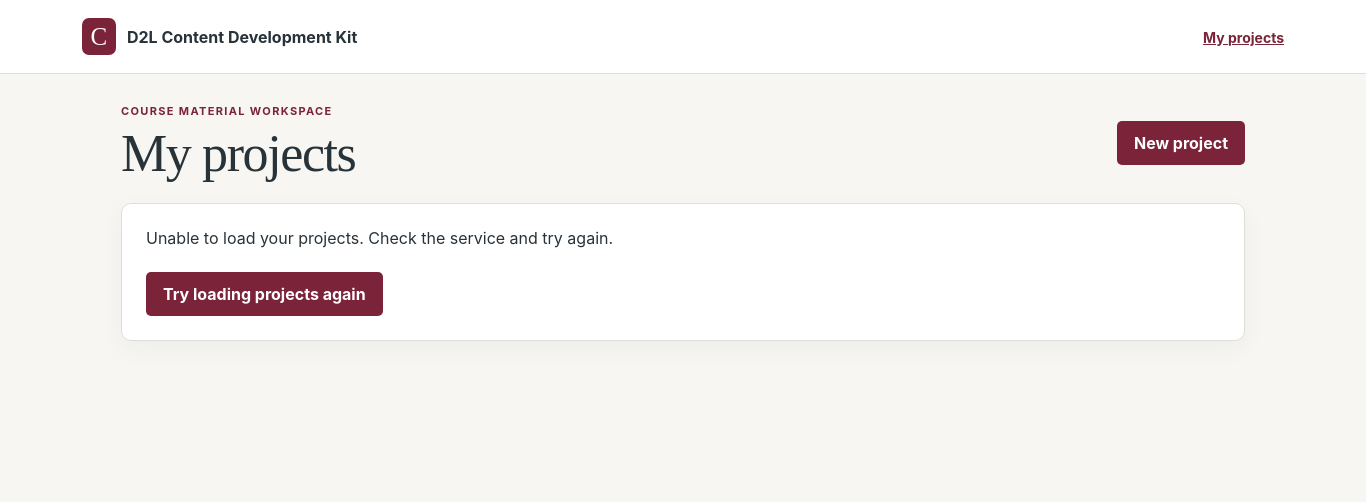
Test case: keeps loading failures distinct from an empty list and allows retry
Expected: the message shows "Unable to load your projects", [146,228,613,248]
Click the button "Try loading projects again": (264, 294) [146,272,383,316]
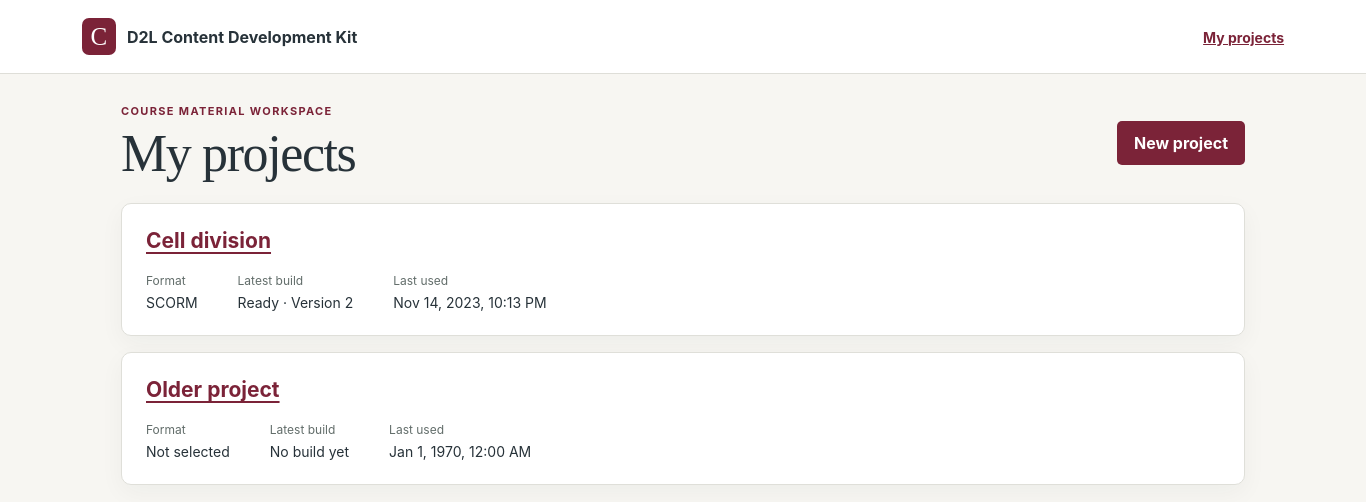
Result: the link "Cell division" is shown at [146,228,271,253]
